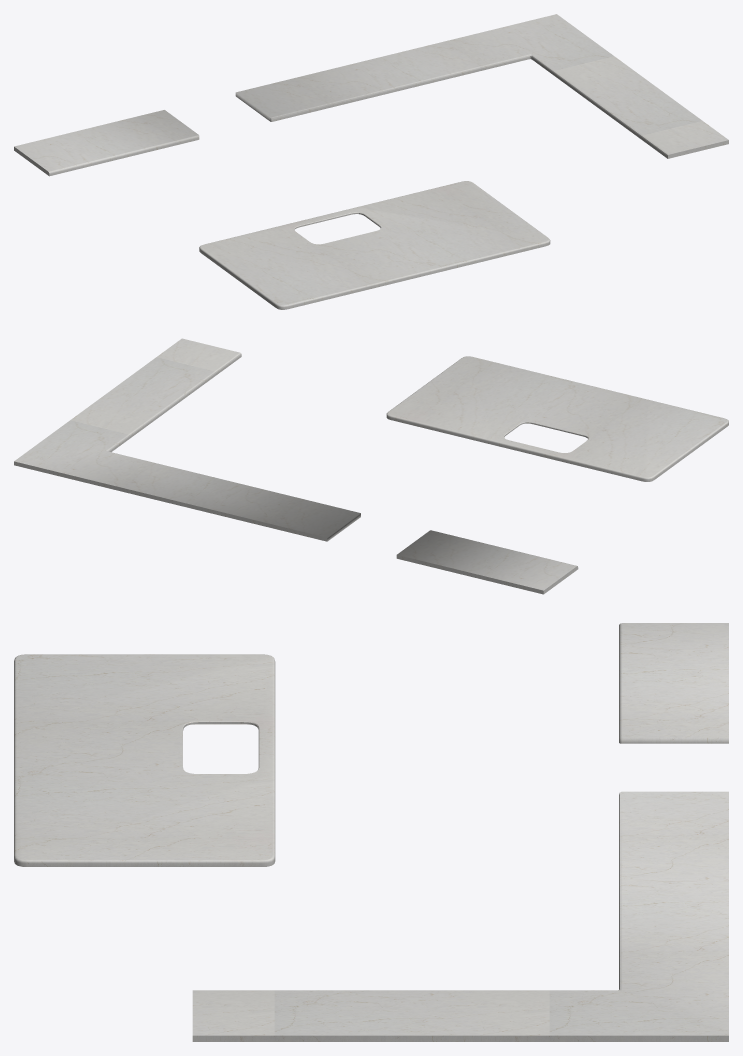
The model's file is Countertops_QuartzCalacattaKarmelo.glb.
The picture shows the model from 3 angles, top to bottom: view 1: azimuth 30°, elevation 25°; view 2: azimuth 150°, elevation 25°; view 3: azimuth 270°, elevation 25°; orthographic projection. The views are drawn at different scales.
Parts seen in each view (by area): view 1: Countertop_quartz_calacatta_karmelo.001; view 2: Countertop_quartz_calacatta_karmelo.001; view 3: Countertop_quartz_calacatta_karmelo.001.
Boxes of the visible parts, x1=… form: Countertop_quartz_calacatta_karmelo.001: x1=14, y1=14, x2=728, y2=309; Countertop_quartz_calacatta_karmelo.001: x1=14, y1=338, x2=728, y2=594; Countertop_quartz_calacatta_karmelo.001: x1=14, y1=623, x2=728, y2=1041.
Size of the model in its own units: 7.1 by 0.07 by 5.2.
Materials: 1 (1 with a texture image).
